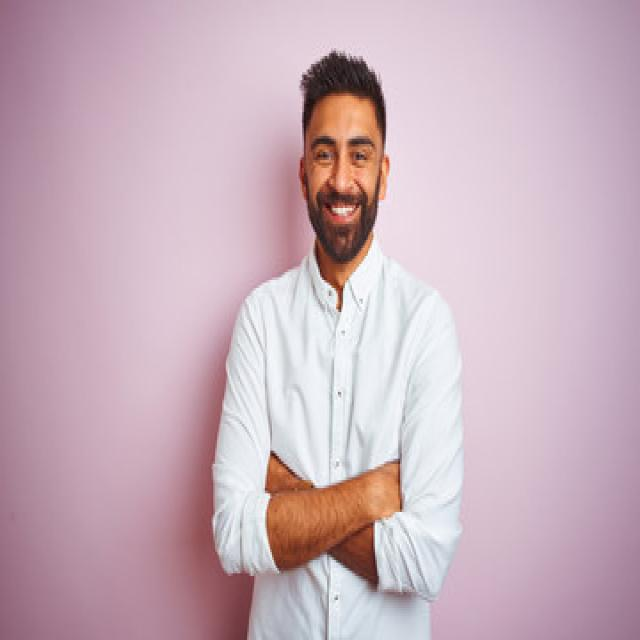person-without-mask: (205, 54, 524, 640)
